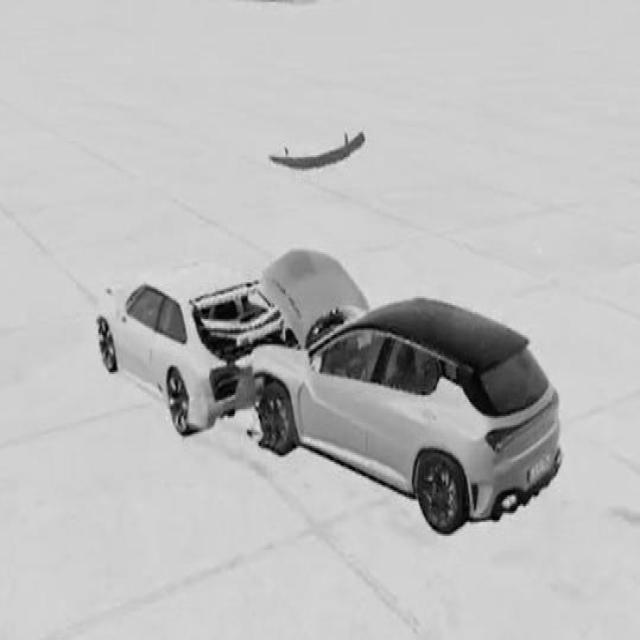accident: (87, 236, 574, 552)
